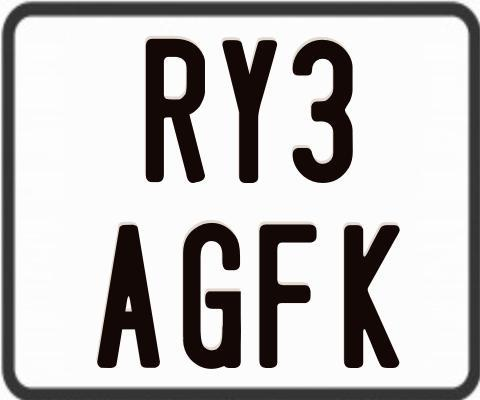3: (291, 40, 354, 189)
A: (96, 225, 161, 371)
F: (258, 221, 319, 370)
G: (180, 222, 244, 372)
K: (344, 222, 400, 369)
R: (144, 36, 208, 181)
Y: (222, 38, 283, 187)
